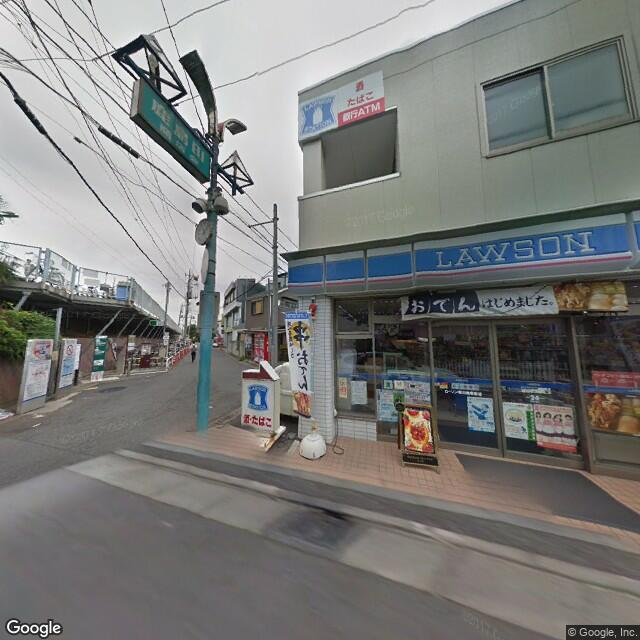lawson: (283, 205, 637, 294), (294, 86, 333, 137), (245, 376, 269, 414)
